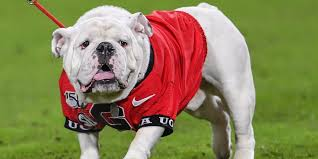Bulldog: (40, 3, 268, 157)
